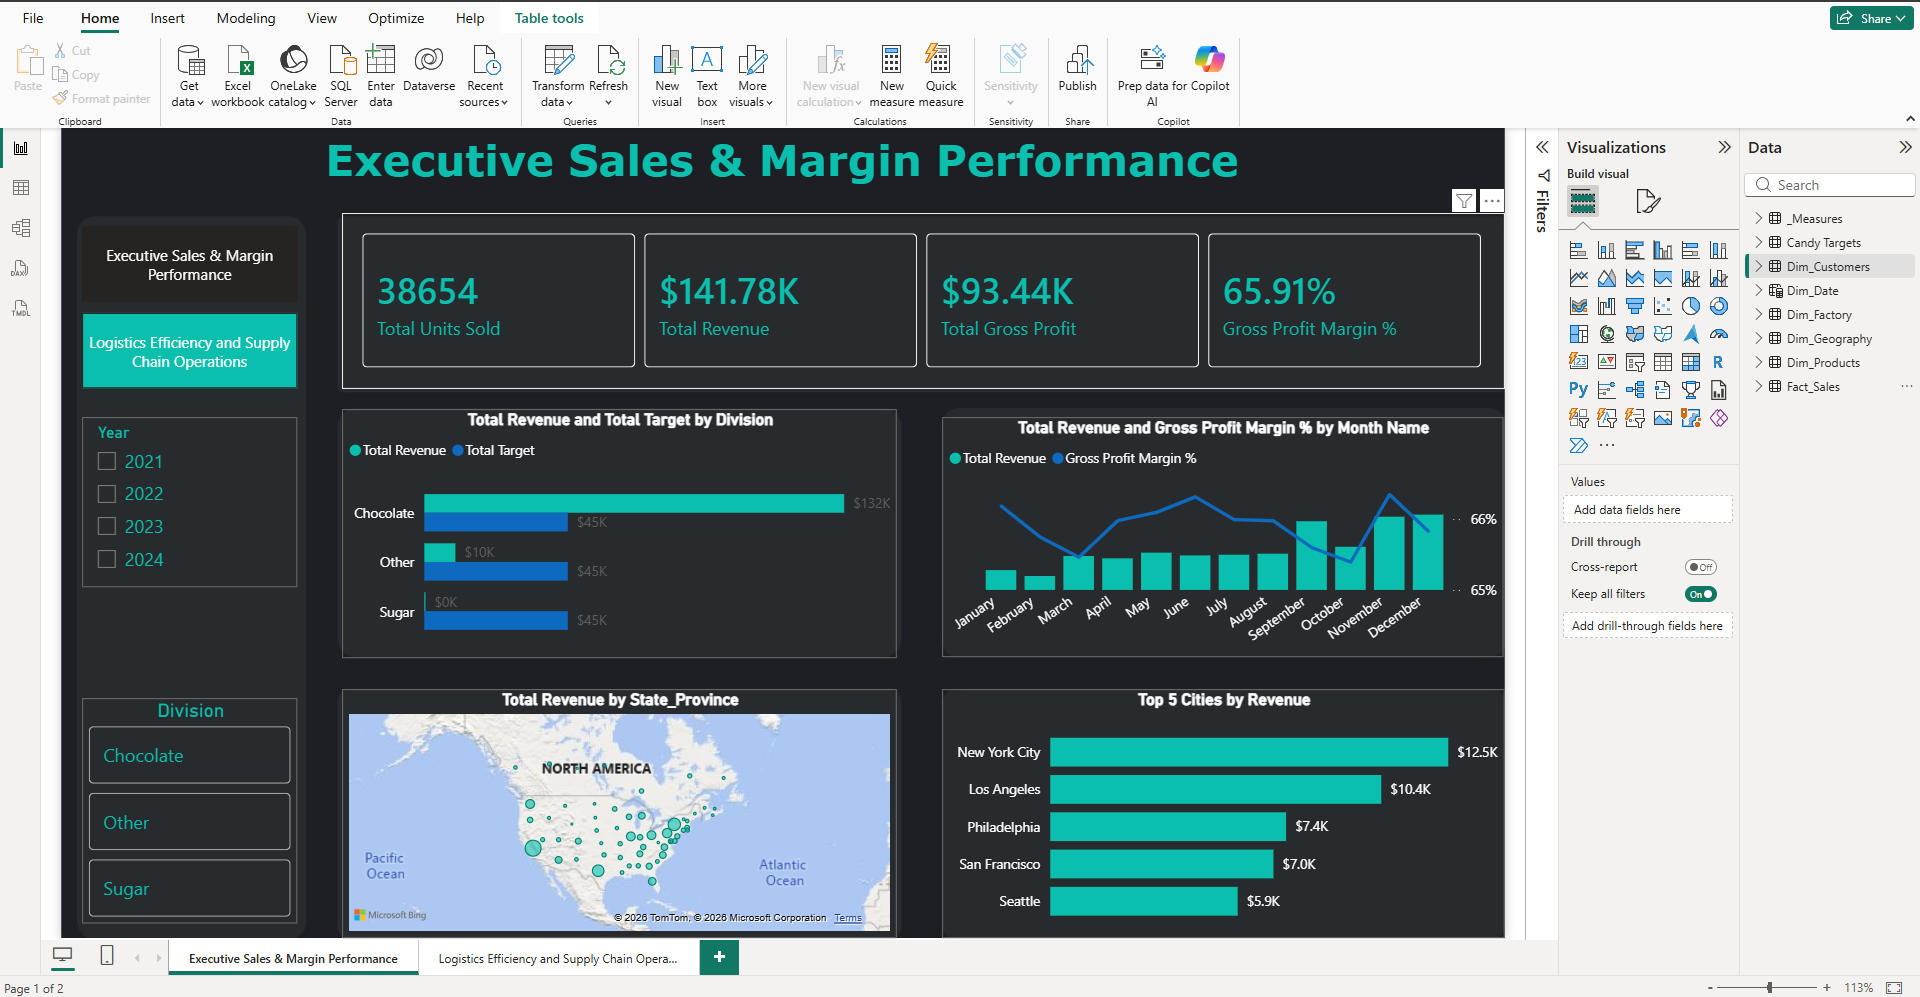

The dashboard page shown, as its layout file describes it:
{"tool":"powerbi","page":{"name":"Executive Sales & Margin Performance","canvas":[1280,720],"ordinal":0},"visuals":[{"type":"cardVisual","fields":{"Data":["_Measures.Total Units Sold","_Measures.Total Revenue","_Measures.Total Gross Profit","_Measures.Gross Profit Margin %"]},"box":[248.9,75.6,1031.1,155.6],"z":0},{"type":"clusteredBarChart","fields":{"Category":["Dim_Products.Division"],"Y":["_Measures.Total Revenue","_Measures.Total Target"]},"box":[248.9,248.9,492.2,221.1],"z":1000},{"type":"lineStackedColumnComboChart","fields":{"Category":["Dim_Date.Month Name"],"Y":["_Measures.Total Revenue"],"Y2":["_Measures.Gross Profit Margin %"]},"box":[781.1,256.7,497.8,213.3],"z":2000},{"type":"map","fields":{"Category":["Dim_Customers.State_Province"],"Size":["_Measures.Total Revenue"]},"box":[248.9,497.8,492.2,221.1],"z":3000},{"type":"clusteredBarChart","title":"Top 5 Cities by Revenue","fields":{"Category":["Dim_Customers.City"],"Y":["_Measures.Total Revenue"]},"box":[781.1,497.8,498.9,221.1],"z":4000},{"type":"slicer","fields":{"Values":["Dim_Date.Year"]},"box":[18.9,256.7,191.1,151.1],"z":5000},{"type":"advancedSlicerVisual","fields":{"Values":["Candy Targets.Division"]},"box":[18.9,505.6,191.1,200],"z":6000},{"type":"textbox","box":[0,0,1278.9,75.6],"z":7000},{"type":"pageNavigator","box":[18.9,86.7,191.1,144.4],"z":8000}]}

Visuals, with their boxes on the page's 1280x720 design canvas (x1, y1, x2, y2). These are canvas units, not pixel positions in the 1920x997 screenshot, which may show the page scaled, cropped or inside an application window:
cardVisual - _Measures.Total Units Sold x _Measures.Total Revenue: <region>249, 76, 1280, 231</region>
clusteredBarChart - Dim_Products.Division x _Measures.Total Revenue: <region>249, 249, 741, 470</region>
lineStackedColumnComboChart - Dim_Date.Month Name x _Measures.Total Revenue: <region>781, 257, 1279, 470</region>
map - Dim_Customers.State_Province x _Measures.Total Revenue: <region>249, 498, 741, 719</region>
"Top 5 Cities by Revenue" clusteredBarChart: <region>781, 498, 1280, 719</region>
slicer - Dim_Date.Year: <region>19, 257, 210, 408</region>
advancedSlicerVisual - Candy Targets.Division: <region>19, 506, 210, 706</region>
textbox: <region>0, 0, 1279, 76</region>
pageNavigator: <region>19, 87, 210, 231</region>
